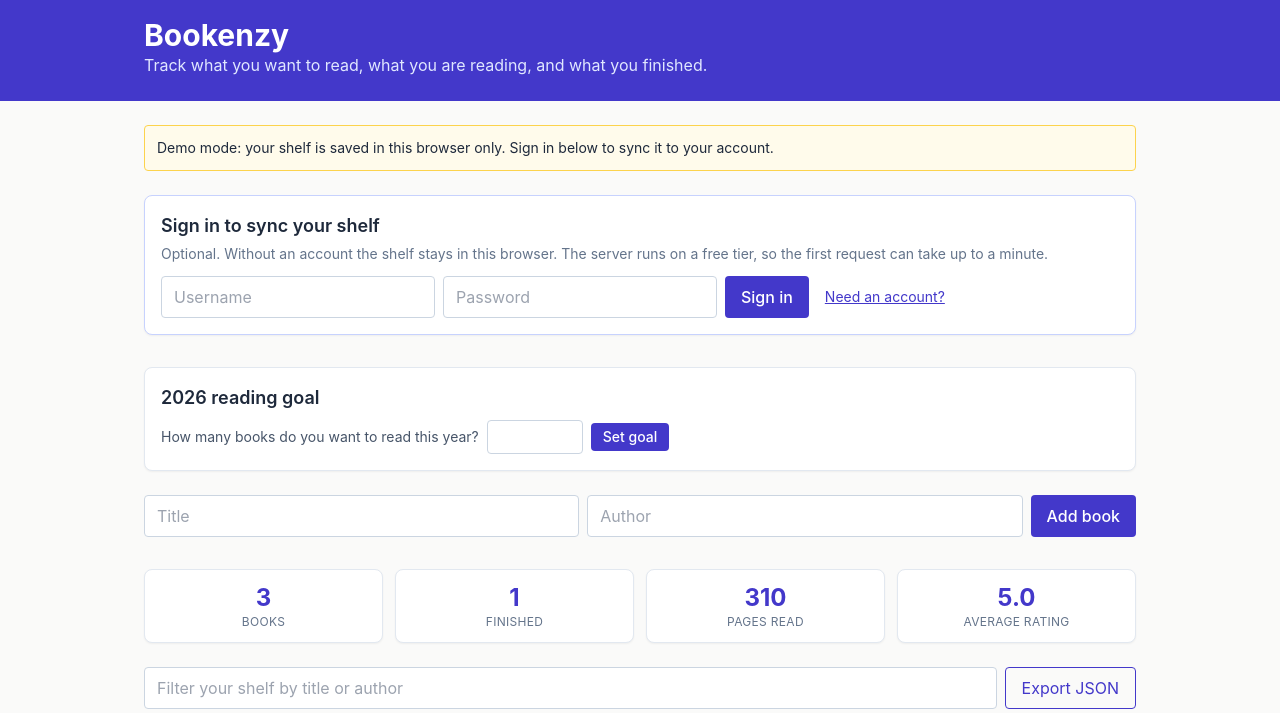
signed-in mode › shows the server error when sign-in fails
The width and height of the screenshot is (1280, 713).
Type "ada" into the field labelled "Username". click: (298, 297)
box: x1=161 y1=276 x2=435 y2=318
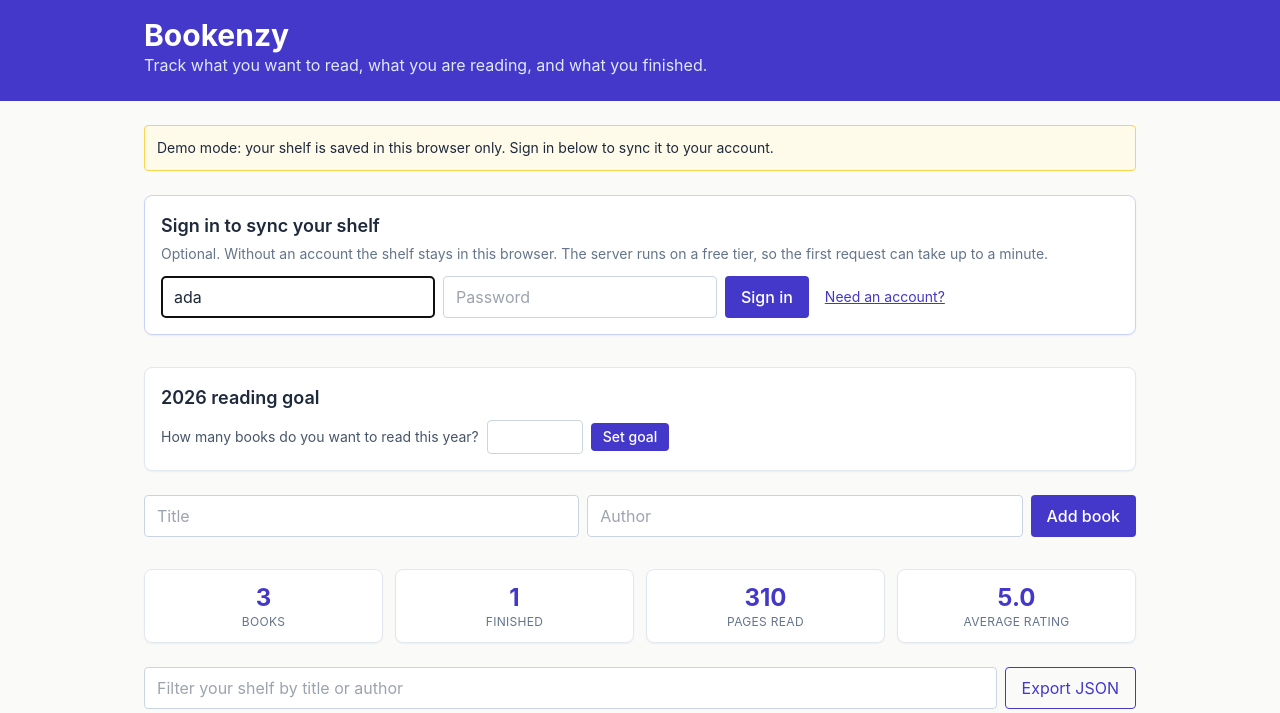
Type "wrongwrong" into the password field labelled "Password". click: (580, 297)
box: x1=443 y1=276 x2=717 y2=318
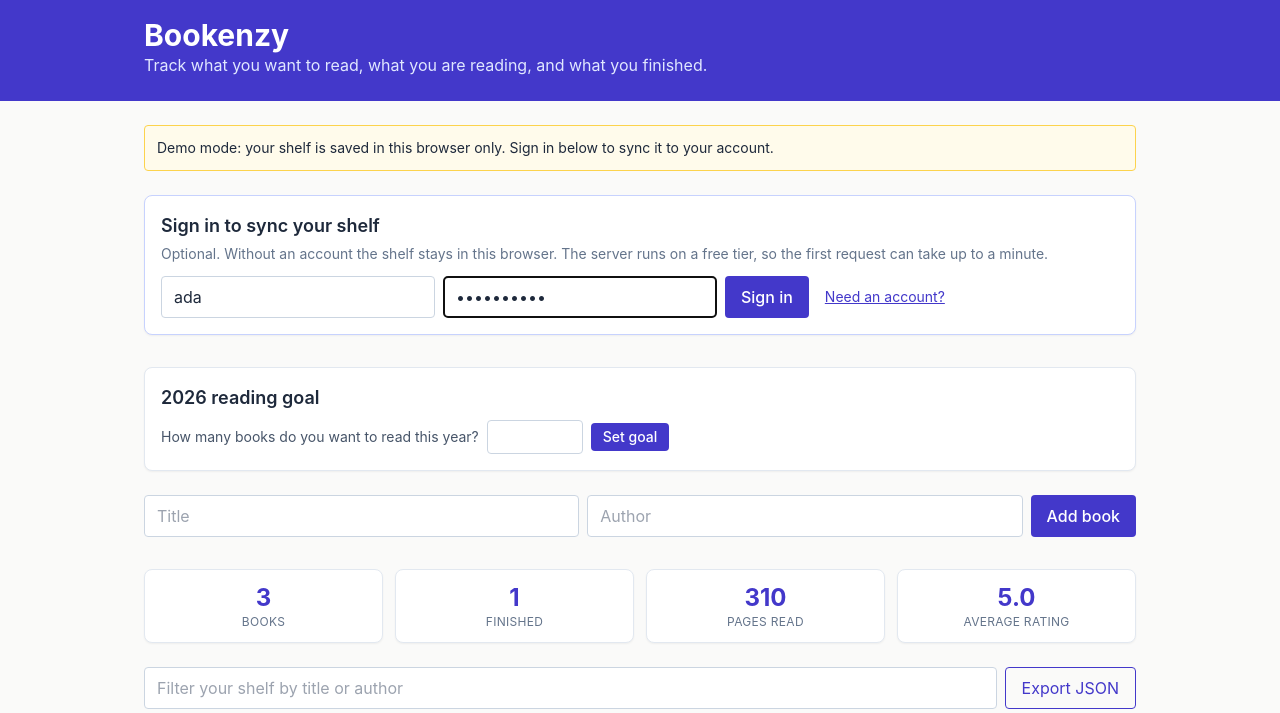
Submit the form "Sign in", box x1=144 y1=195 x2=1136 y2=335
(page scrolled)
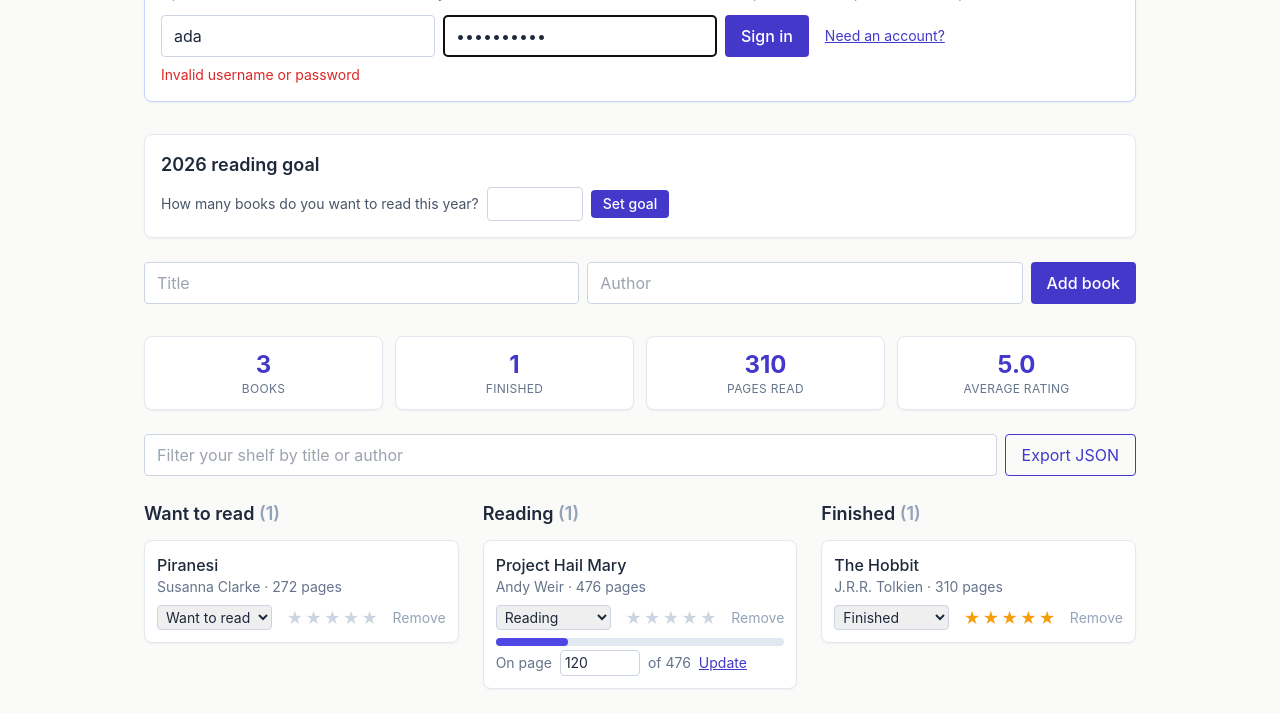
Check: the text "Piranesi" is shown, box x1=157 y1=555 x2=218 y2=575
Check: the message reads "Invalid username or password", box x1=161 y1=66 x2=360 y2=83
